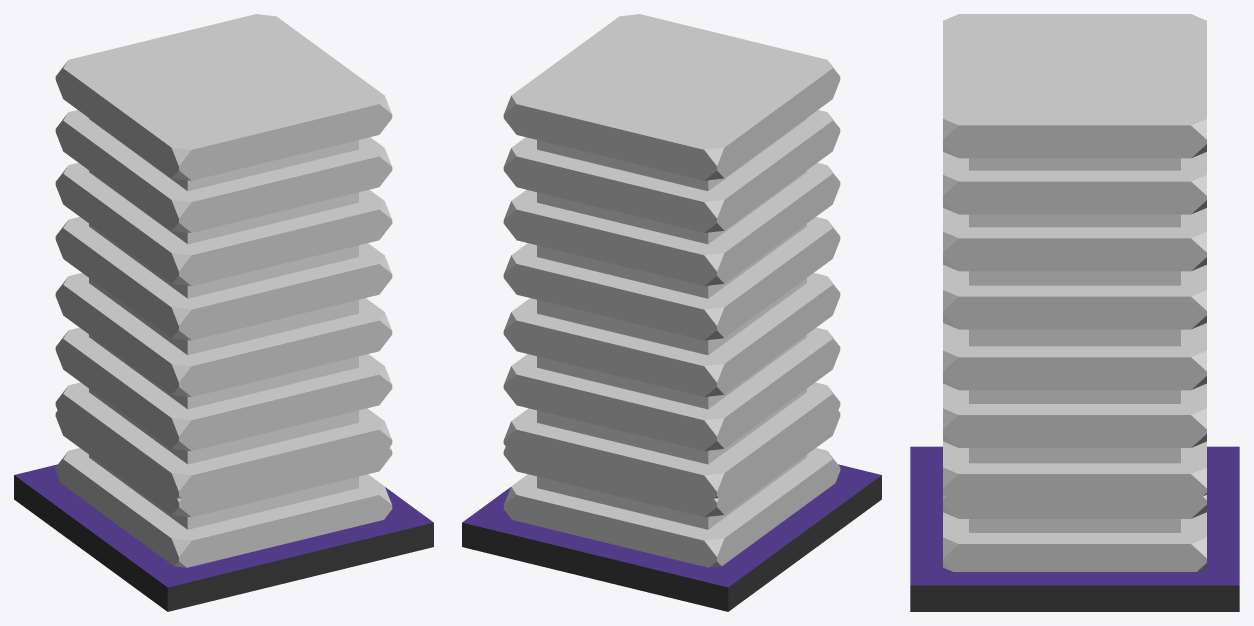
Rendered from building_1.fbx.
The picture shows the model from 3 angles, left to right: view 1: azimuth 30°, elevation 25°; view 2: azimuth 150°, elevation 25°; view 3: azimuth 270°, elevation 25°; orthographic projection. The views are drawn at different scales.
Parts seen in each view (by area): view 1: Cube.074, Building Segment, Cube.066, Cube.068, Cube.064, Cube.070, Cube.072, Cube.060, Cube.055, Cube.062, Cube.067, Cube.063 (+6 smaller); view 2: Cube.074, Building Segment, Cube.066, Cube.068, Cube.064, Cube.070, Cube.072, Cube.060, Cube.055, Cube.062, Cube.067, Cube.063 (+5 smaller); view 3: Cube.074, Building Segment, Cube.066, Cube.068, Cube.070, Cube.072, Cube.064, Cube.060, Cube.055, Cube.067, Cube.062, Cube.063 (+5 smaller).
Boxes of the visible parts, x1,y1,x2,y2 form: Cube.074: (55,14,392,180); Building Segment: (14,464,433,611); Cube.066: (55,273,392,396); Cube.068: (55,217,392,340); Cube.064: (55,327,392,450); Cube.070: (55,163,392,285); Cube.072: (55,110,392,232); Cube.060: (55,382,392,505); Cube.055: (55,448,392,567); Cube.062: (55,405,392,517); Cube.067: (89,278,358,355); Cube.063: (89,388,358,464); Cube.074: (503,14,840,180); Building Segment: (462,464,881,611); Cube.066: (503,273,840,396); Cube.068: (503,217,840,340); Cube.064: (503,327,840,450); Cube.070: (503,163,840,285); Cube.072: (503,110,840,232); Cube.060: (503,382,840,505); Cube.055: (503,448,840,567); Cube.062: (503,405,840,517); Cube.067: (537,278,806,355); Cube.063: (537,388,806,464); Cube.074: (943,14,1206,158); Building Segment: (910,446,1239,611); Cube.066: (943,323,1206,390); Cube.068: (943,265,1206,329); Cube.070: (943,208,1206,271); Cube.072: (943,152,1206,214); Cube.064: (943,383,1206,447); Cube.060: (943,441,1206,506); Cube.055: (943,512,1206,571); Cube.067: (969,329,1180,346); Cube.062: (943,486,1206,518); Cube.063: (969,448,1180,463).
Bounding box in the file's own units: 800 × 1268 × 800.
